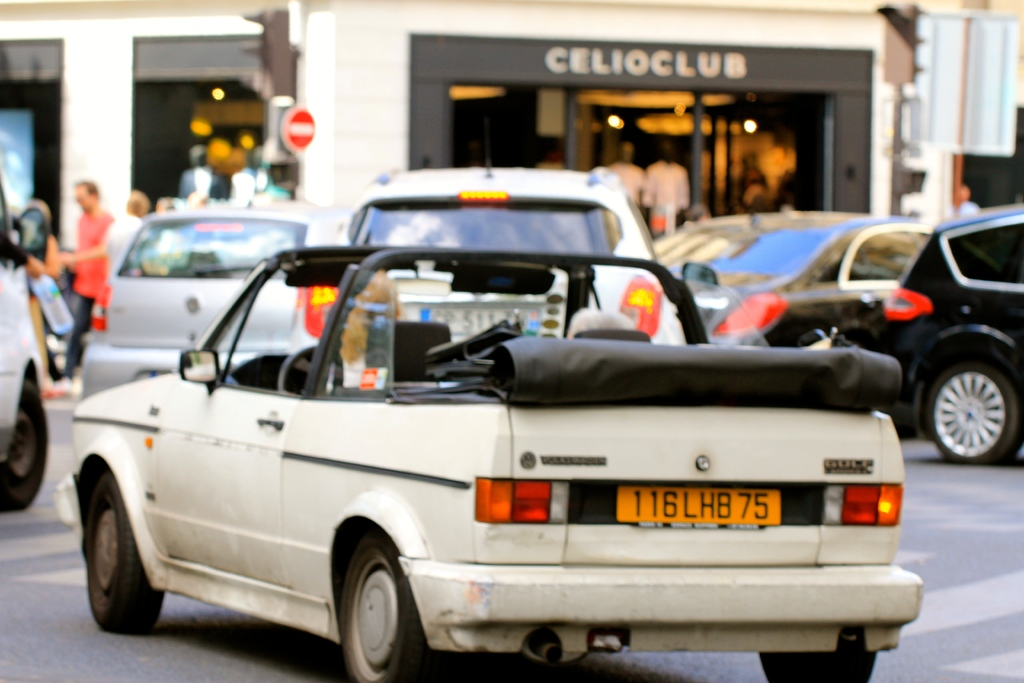Car: (51, 244, 923, 683), (344, 116, 657, 345), (80, 204, 337, 396), (655, 212, 1001, 350), (882, 204, 1024, 466)
